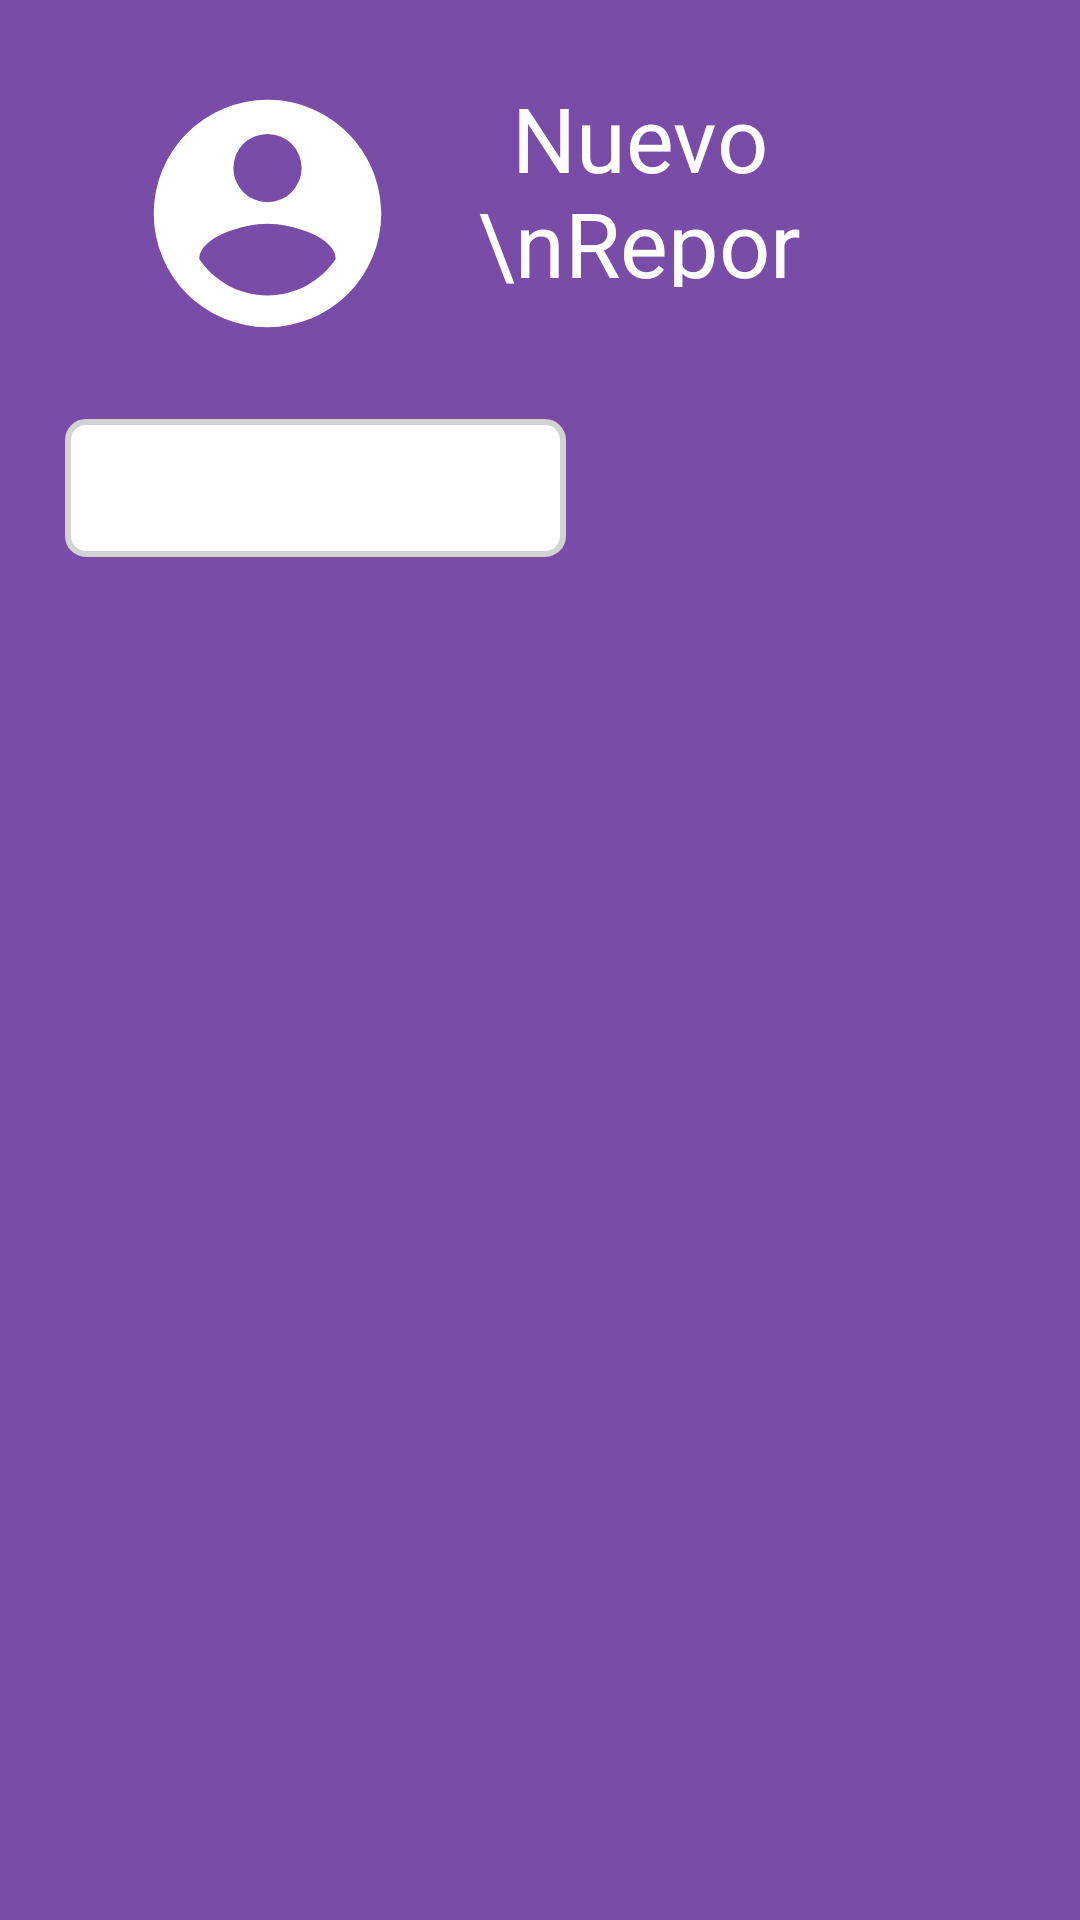

Screen size 1080×1920. Icon name, then its box in pixels as rect(x1, y1, x2, y2):
account circle: rect(153, 99, 382, 328)
